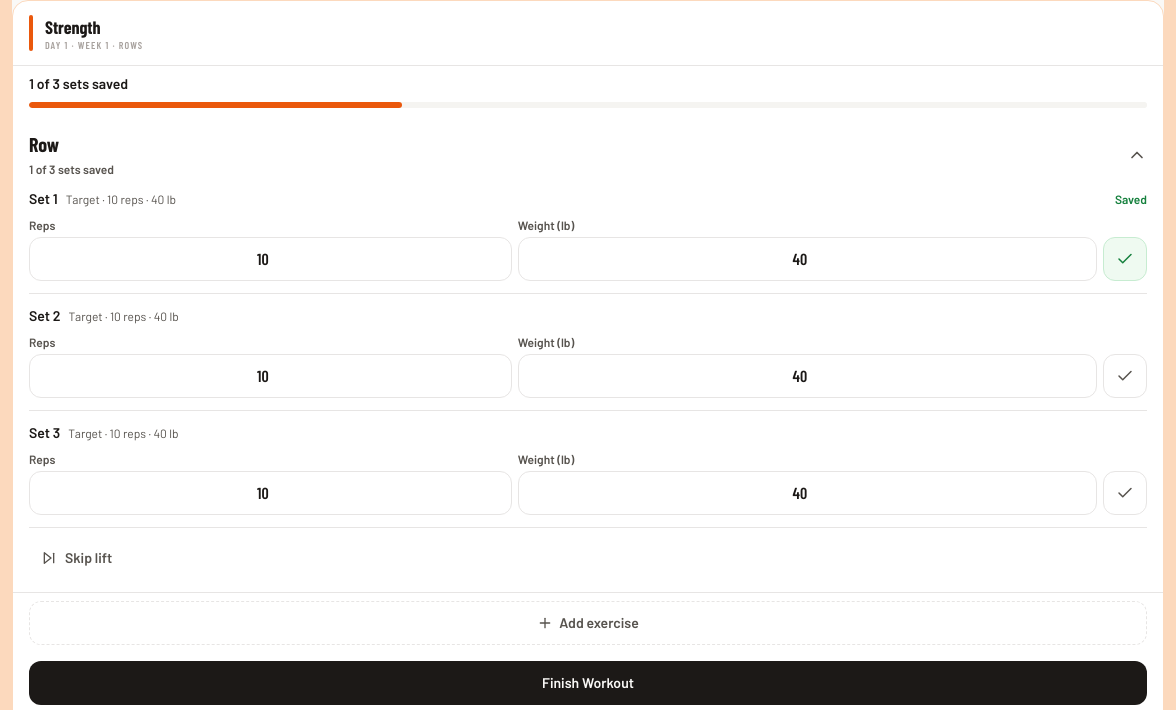
Test: planned finish with saved sets › keeps conflicting actuals blocked until their explicit recovery
Replace the text in the number field named "Row set 1 reps" with "7": (270, 259) [29,237,512,281]
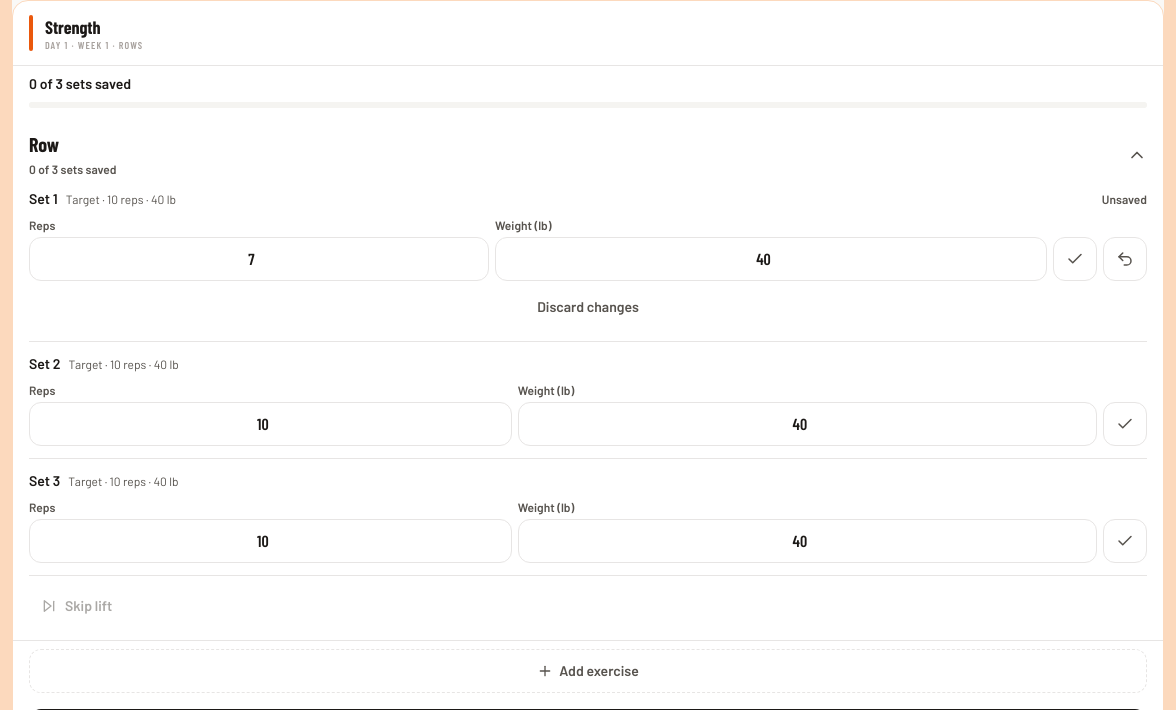
Click the button named "Save set 1": (1075, 259) [1053,237,1097,281]
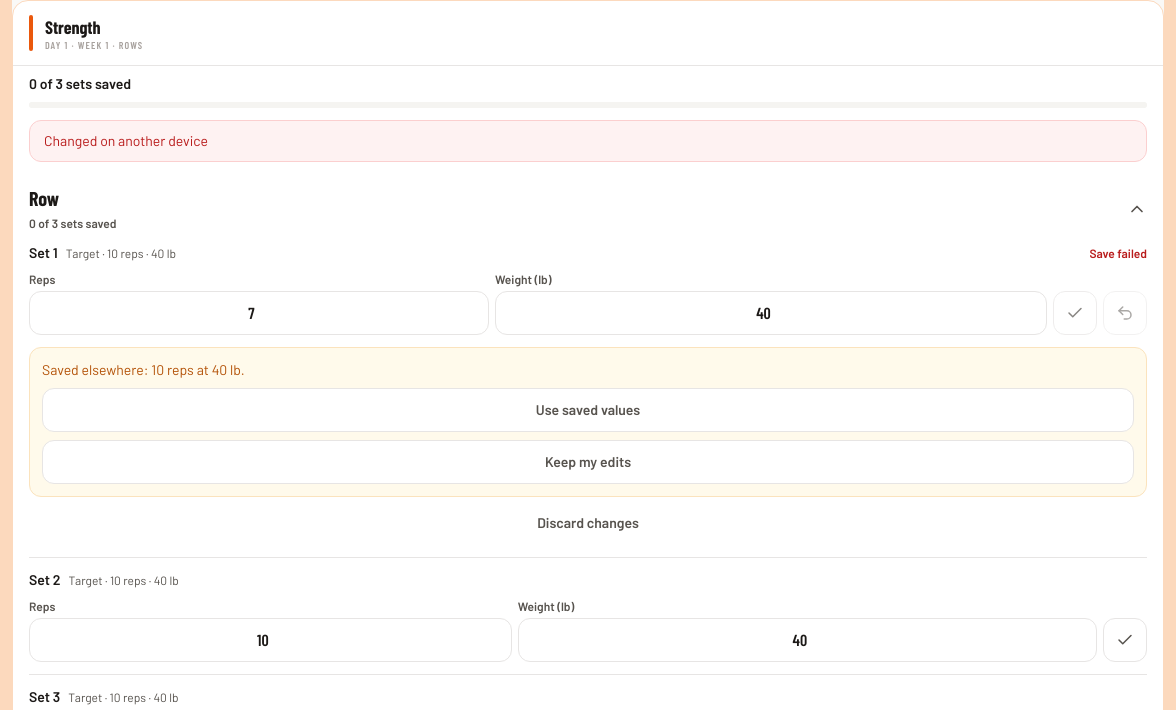
Check: the button "Use saved values" is shown
Click the button "Use saved values": (588, 410) [42,388,1134,432]
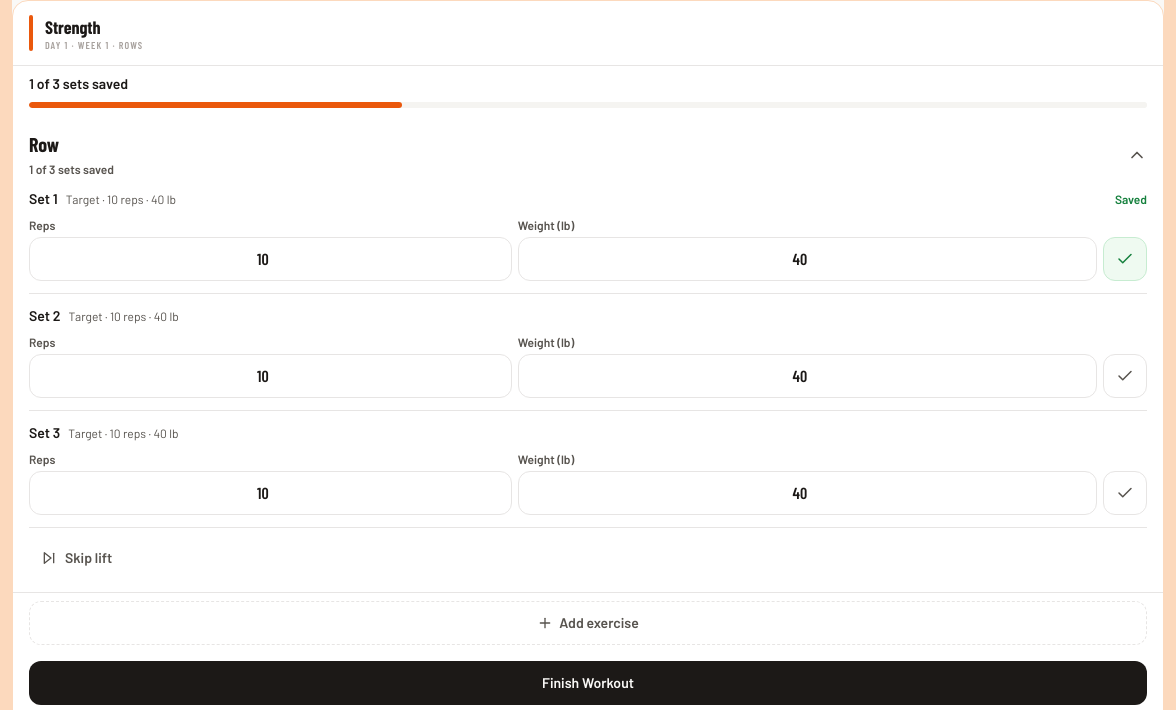
Check: the button "Finish Workout" is enabled, box [29,661,1147,705]
